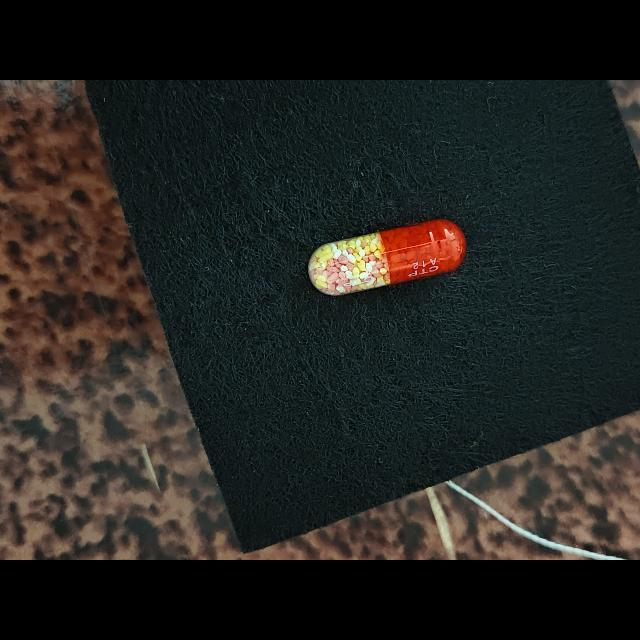Intact Capsule: (308, 219, 466, 296)
